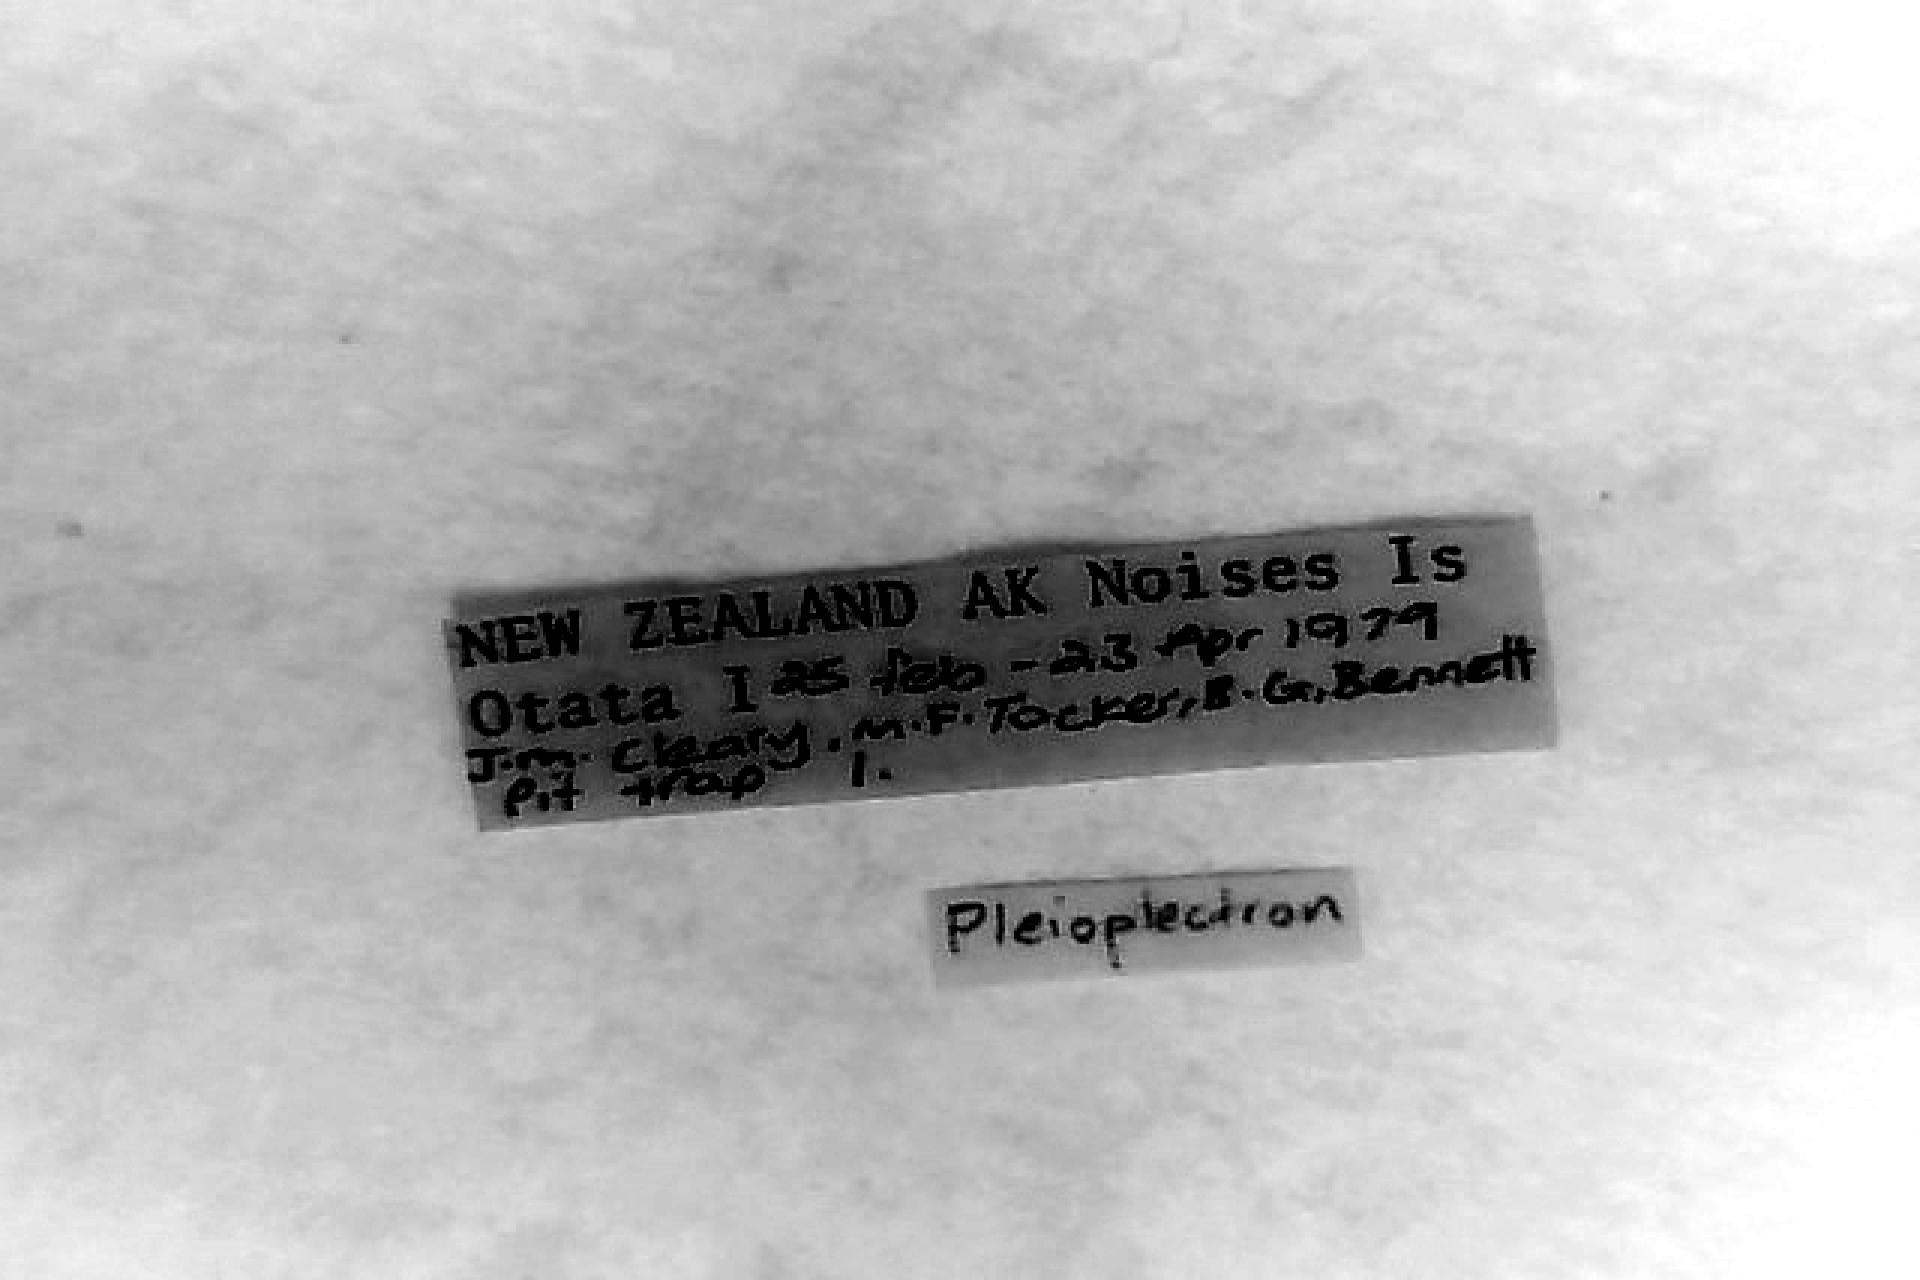hand_label: (936, 870, 1361, 982)
mixed_label: (442, 520, 1556, 827)
